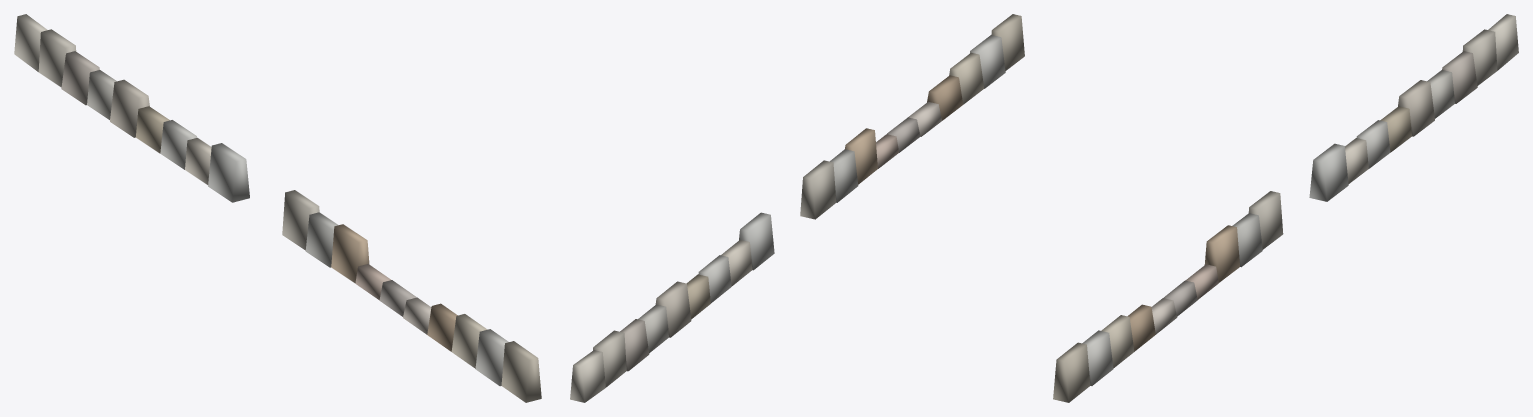
The model's file is farm_4_-7_collision.glb.
The picture shows the model from 3 angles, left to right: view 1: azimuth 30°, elevation 25°; view 2: azimuth 150°, elevation 25°; view 3: azimuth 330°, elevation 25°; orthographic projection. The views are drawn at different scales.
Visible parts, largest first — view 1: geometry_0; view 2: geometry_0; view 3: geometry_0.
Part boxes in pixels (x1,y1,x2,y2): geometry_0: [14, 14, 541, 402]; geometry_0: [570, 14, 1024, 402]; geometry_0: [1053, 14, 1518, 402].
Size of the model in its own units: 1.55 by 1.72 by 32.35.
